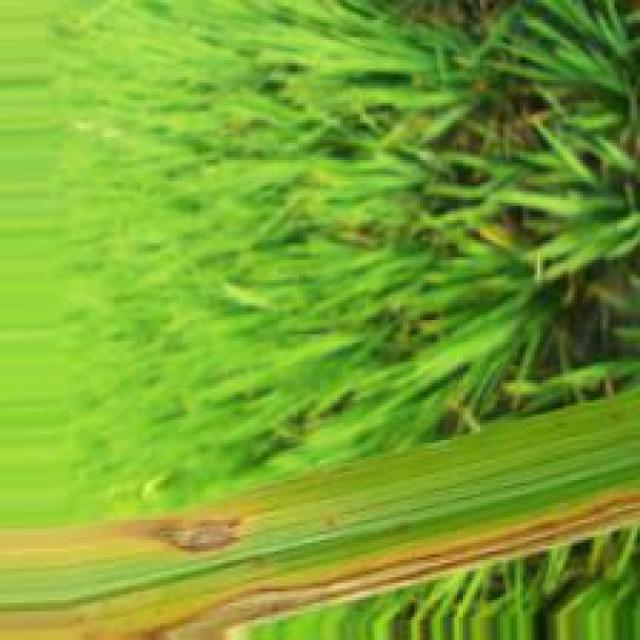Leaf_Blast: (3, 487, 639, 640)
